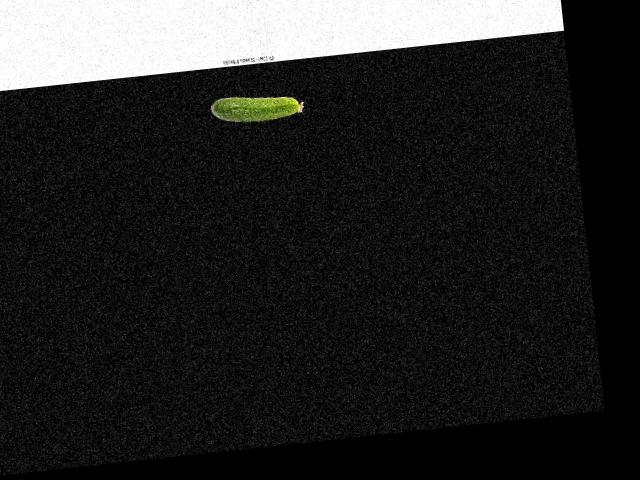cucumber: (209, 89, 304, 126)
